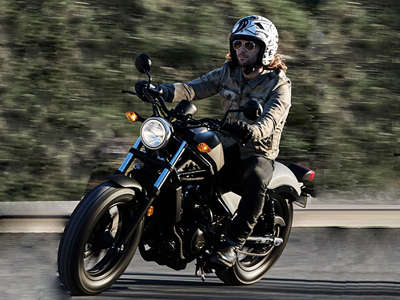motorcycle: (55, 54, 318, 296)
